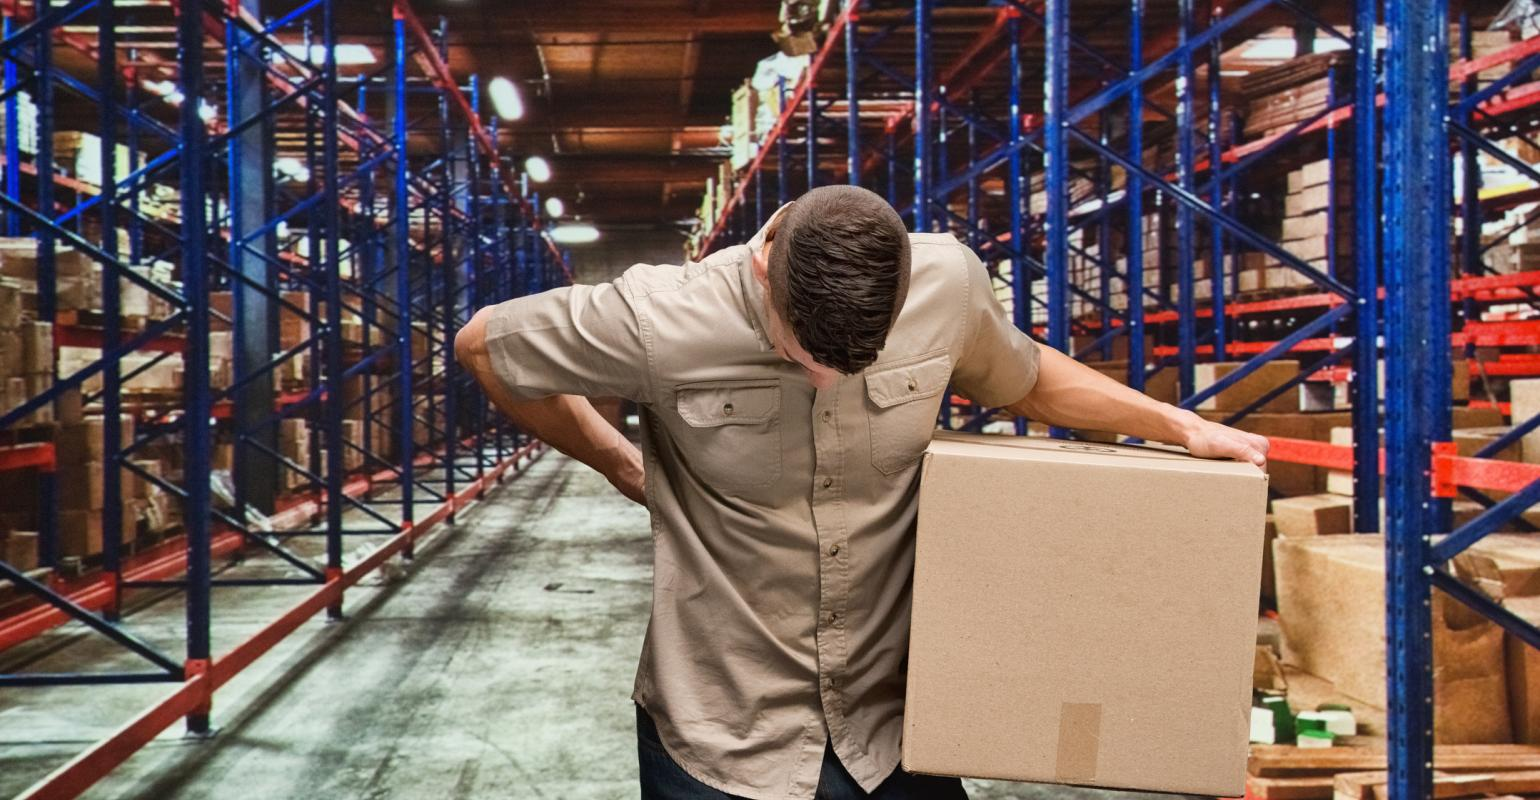noepi: (447, 174, 1283, 793)
